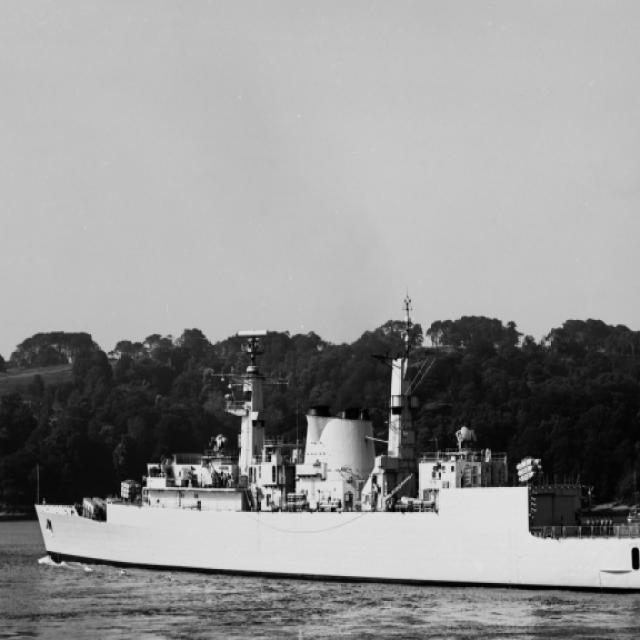Fragata: (34, 290, 640, 602)
